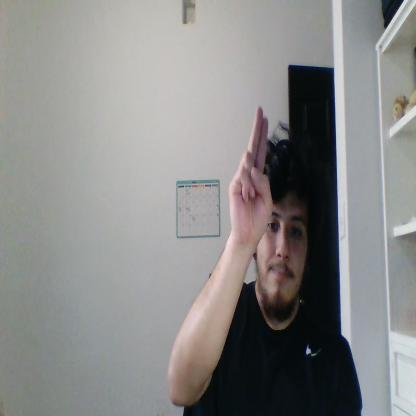U: (229, 106, 274, 242)
